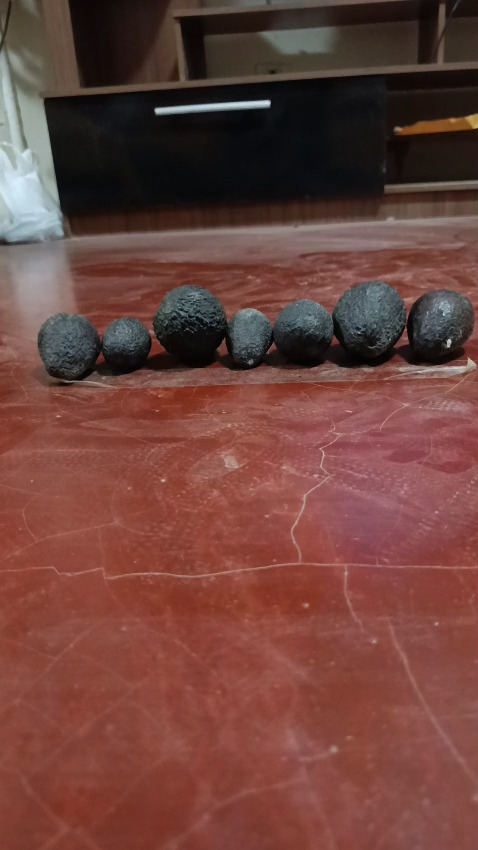Primera: (332, 279, 407, 362), (152, 283, 226, 363)
Segunda: (407, 289, 474, 363), (37, 313, 101, 380), (272, 300, 333, 364)
Tercera: (225, 307, 272, 369), (101, 317, 151, 371)
